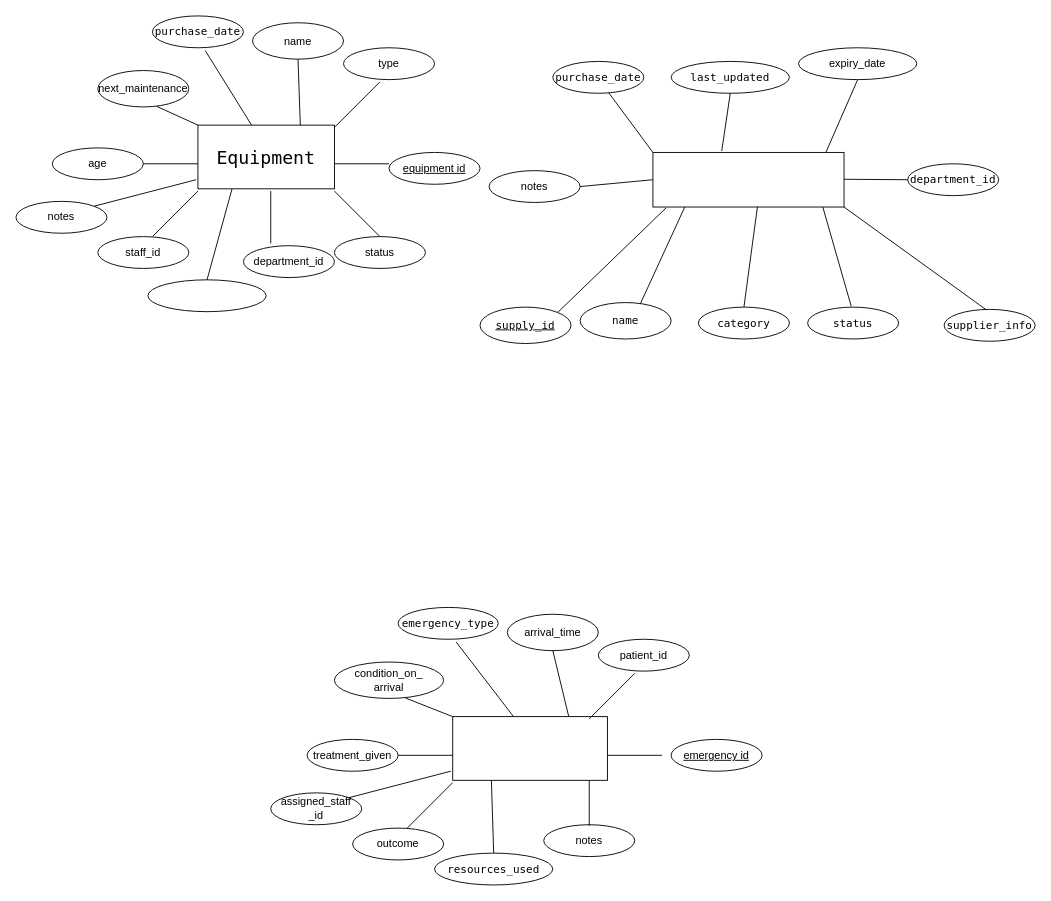
This 1051x901 diagram has some shape labels left out. The shapes that lost their labels are listed below. From the top down, each one's centre as x and y in pixels, then its label:
At (748,179): "Supplies".
At (206,295): "last_maintenance".
At (529,748): "Emergency_care".
